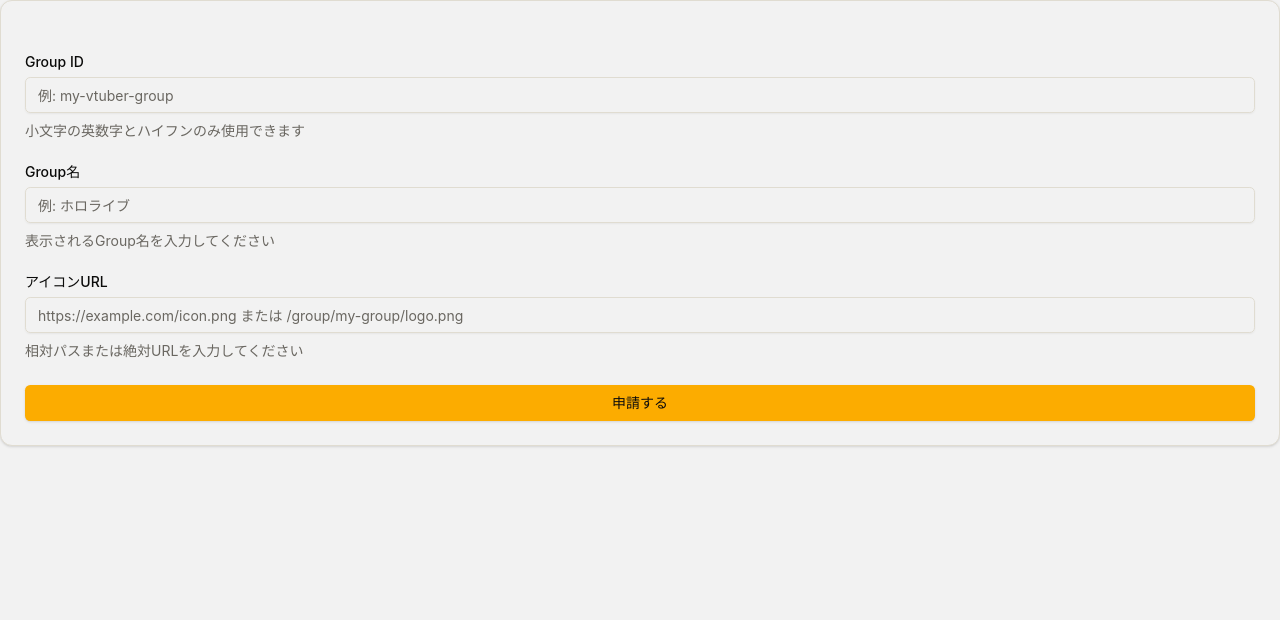
Test case: Group申請フロー統合テスト › バリデーションエラー: Group IDの形式が不正な場合
// 不正な形式のGroup IDを入力
Type "Invalid_Group_ID!" into the field labelled "Group ID" at {"x": 640, "y": 95}, box [25,77,1255,113]
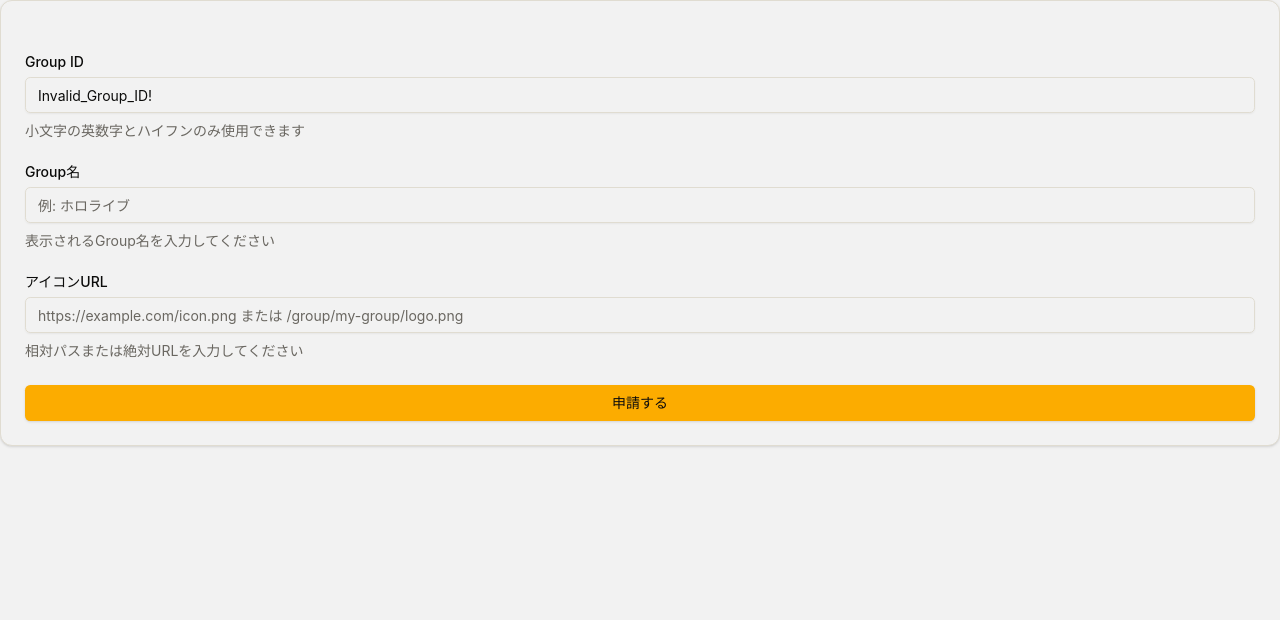
Type "テストグループ" into the field labelled "Group名" at {"x": 640, "y": 205}, box [25,187,1255,223]
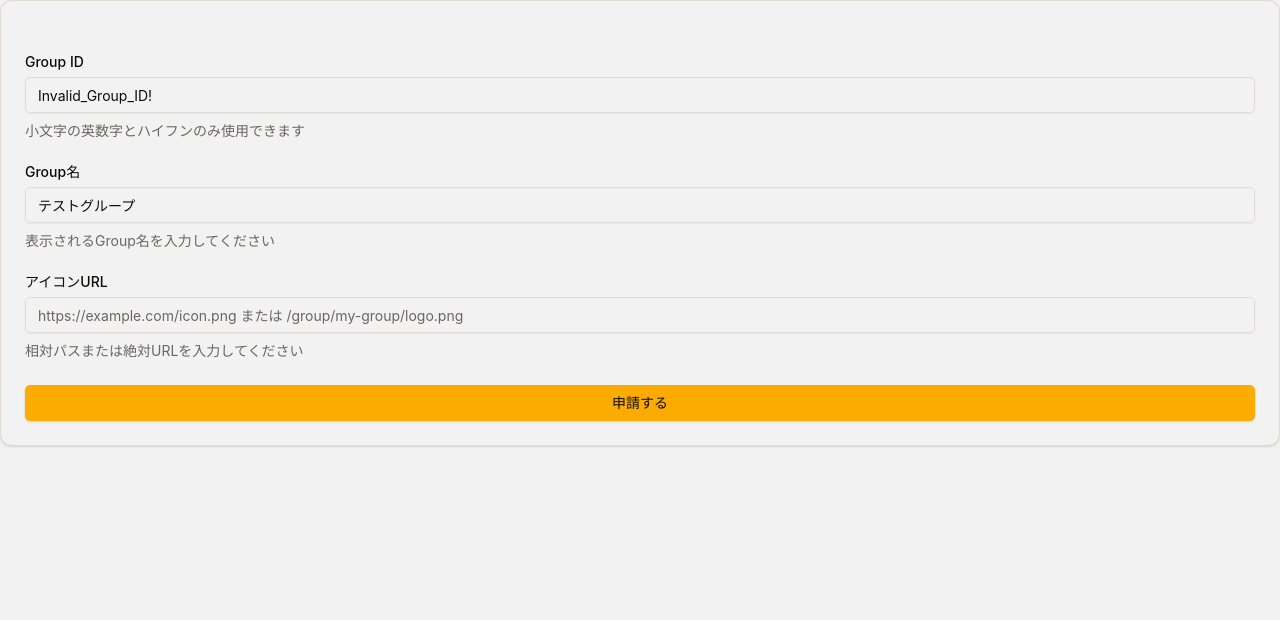
Type "https://example.com/icon.png" into the field labelled "アイコンURL" at {"x": 640, "y": 315}, box [25,297,1255,333]
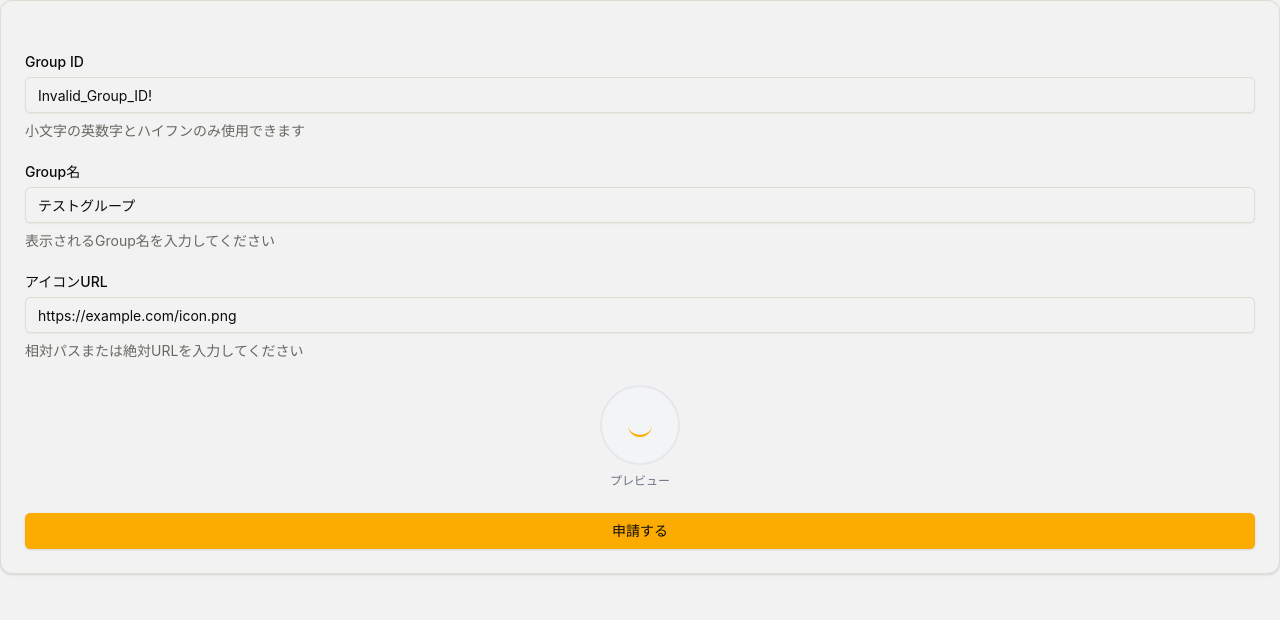
Click the button "申請する" at {"x": 640, "y": 531}, box [25,513,1255,549]
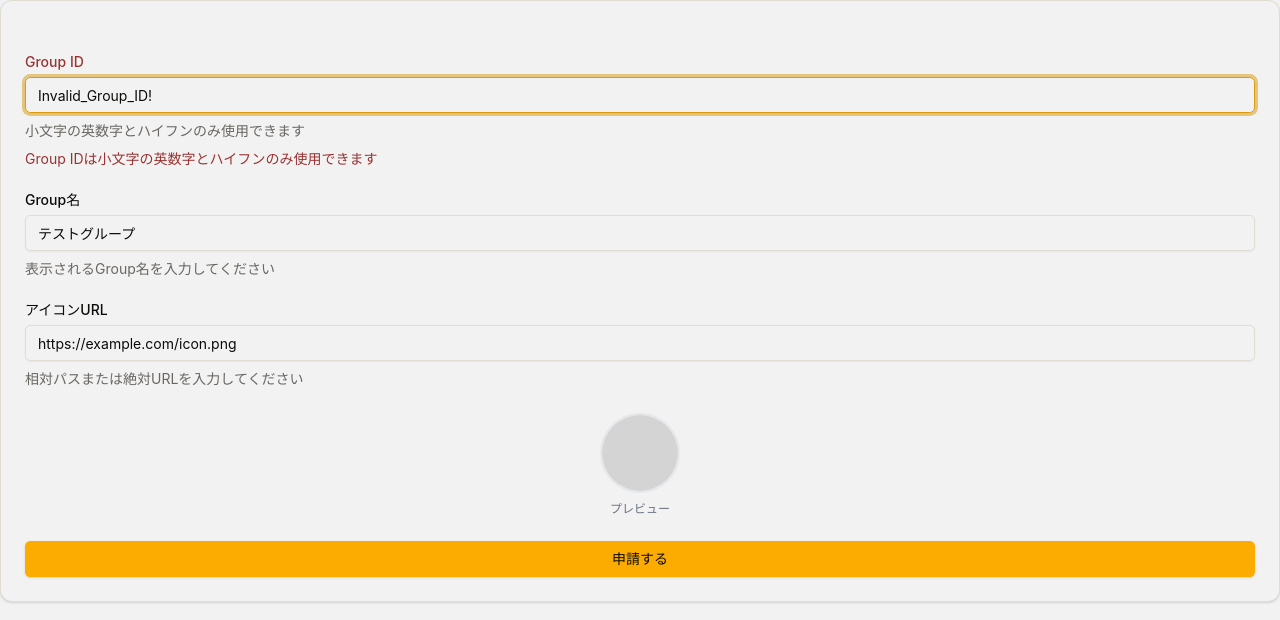
Now the text "Group IDは小文字の英数字とハイフンのみ使用できます" is shown, box [25,150,378,167]
